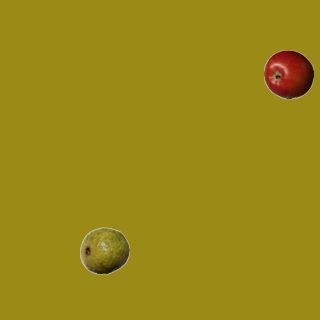Apple Braeburn: (263, 49, 313, 99)
Guava: (79, 225, 129, 275)
